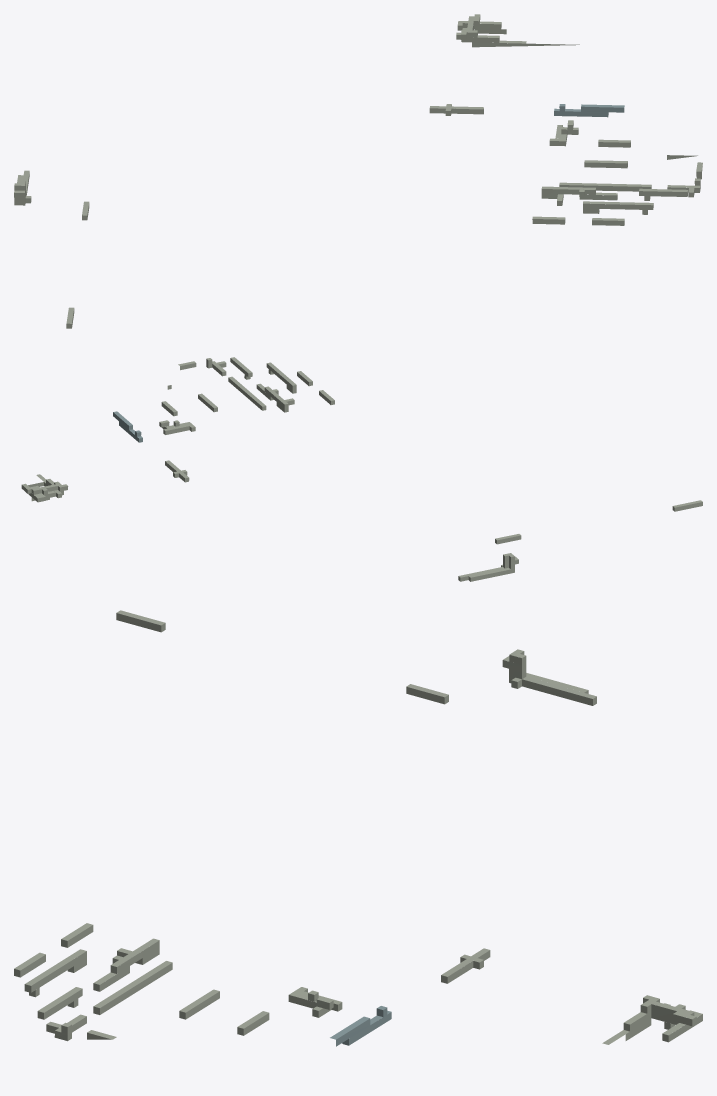
3 views of the same model, one above another, from view 1: azimuth 30°, elevation 25°; view 2: azimuth 150°, elevation 25°; view 3: azimuth 270°, elevation 25° (orthographic). The views are drawn at different scales.
Visible parts, largest first — view 1: measured-industrial; view 2: measured-industrial; view 3: measured-industrial.
Boxes of the visible parts, box(x1,y1,x2,y2) form: measured-industrial: box(14, 14, 702, 328); measured-industrial: box(21, 357, 702, 581); measured-industrial: box(14, 610, 702, 1046).
Bounding box in the file's own units: 144 × 4.09 × 89.04.
